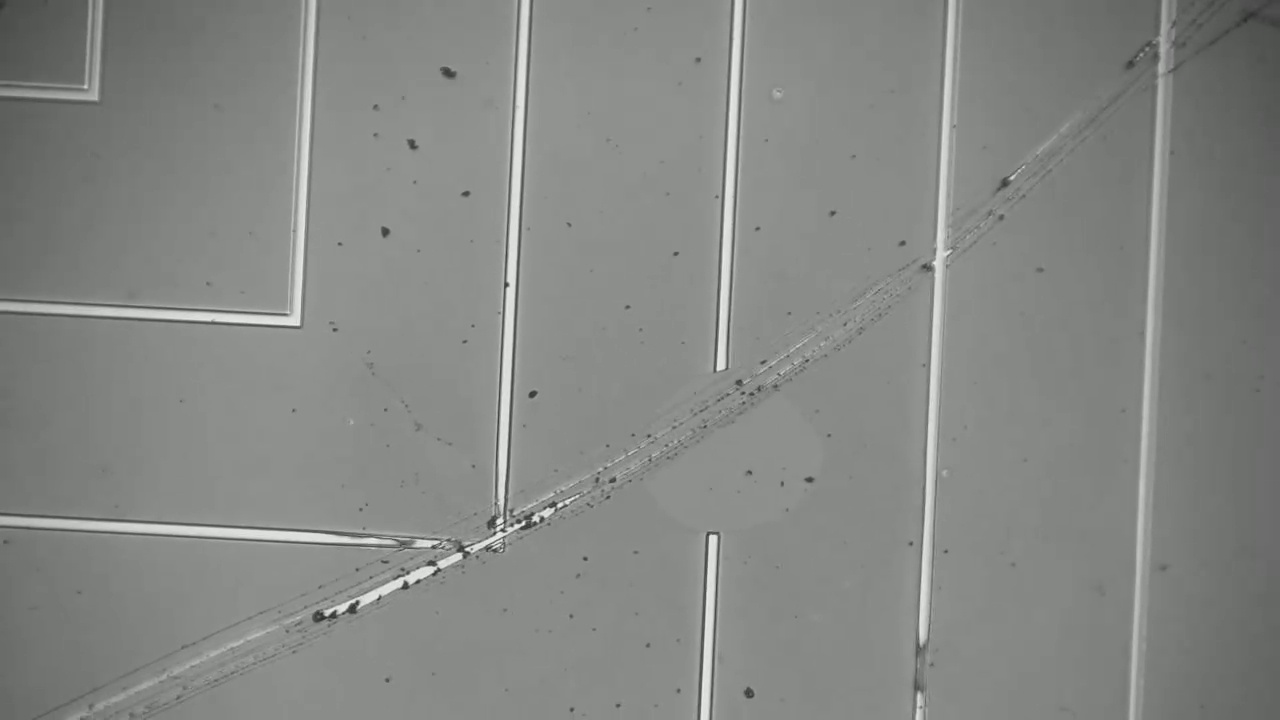gray_line: (895, 610, 943, 708)
open: (665, 335, 750, 575)
scratch: (541, 10, 1207, 520), (37, 573, 397, 720)
